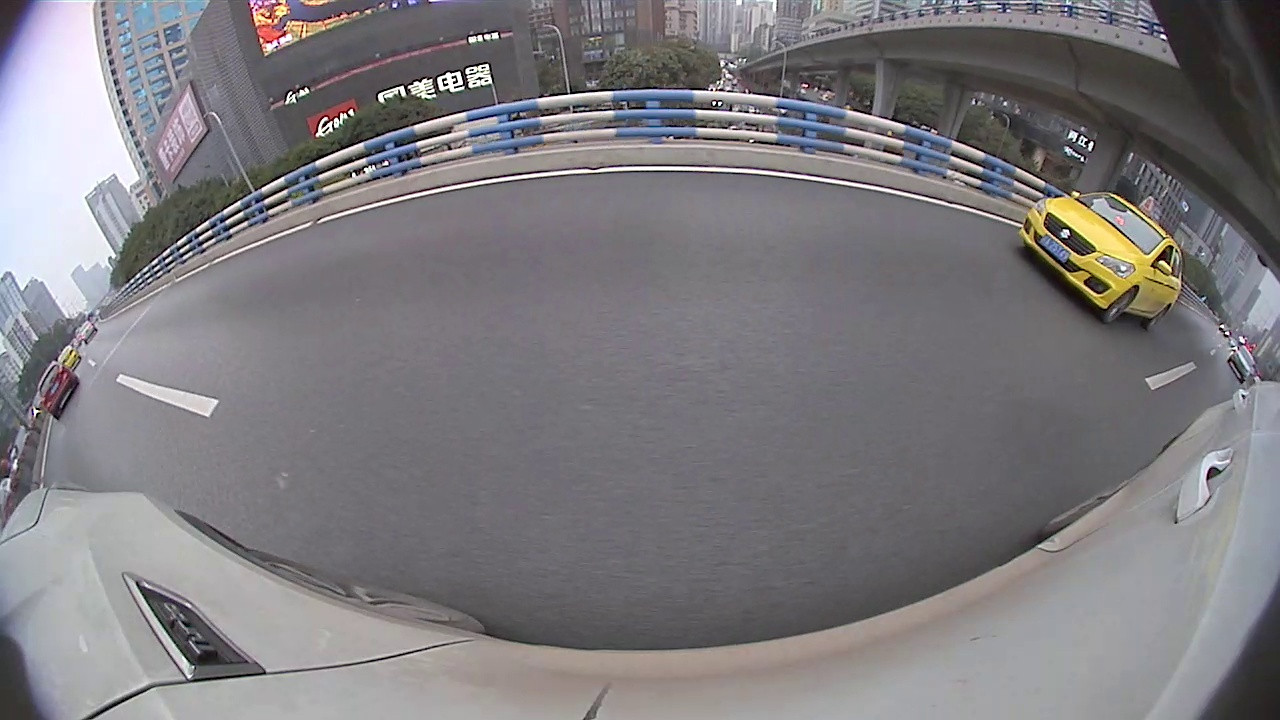bus: (688, 147, 730, 185)
car: (987, 188, 1279, 436), (872, 179, 997, 247), (473, 152, 568, 213), (726, 145, 819, 206), (621, 143, 700, 209), (810, 167, 852, 208), (566, 153, 603, 192)
front: (997, 248, 1065, 321), (874, 195, 890, 219), (727, 172, 738, 196)
rear: (935, 214, 956, 239), (755, 174, 770, 200), (541, 181, 552, 207)
